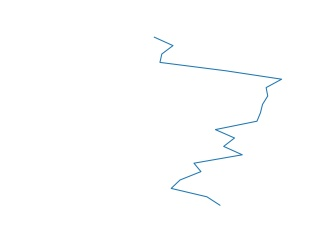floodPlain: (152, 34, 284, 210)
